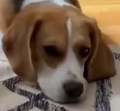Dog: (13, 18, 115, 100)
